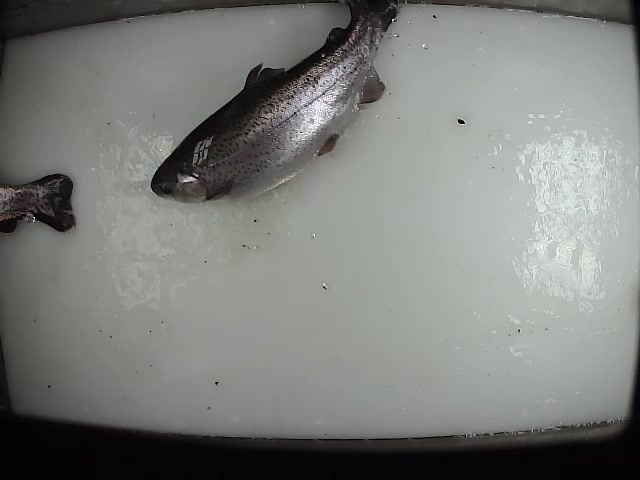fish: (148, 2, 402, 203), (1, 167, 76, 240)
